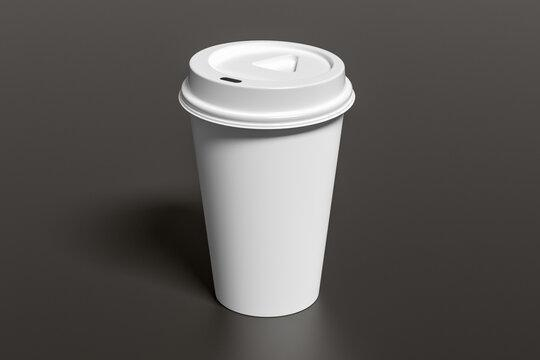cup-disposable: (177, 36, 356, 319)
